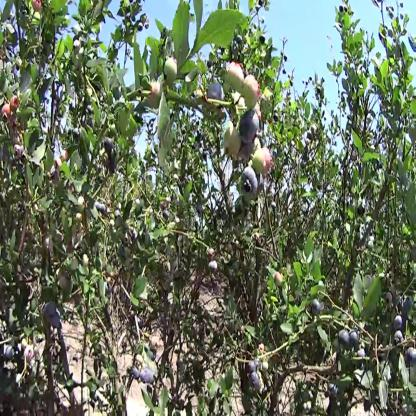intermediate: (4, 100, 19, 122)
mature: (239, 167, 259, 202), (240, 111, 260, 144), (103, 139, 119, 171), (247, 361, 260, 392), (340, 329, 358, 348), (312, 297, 322, 317), (396, 316, 403, 344), (409, 349, 416, 367)
young: (244, 72, 262, 109), (227, 64, 245, 93), (223, 128, 241, 155), (164, 58, 178, 85), (255, 154, 263, 171)
